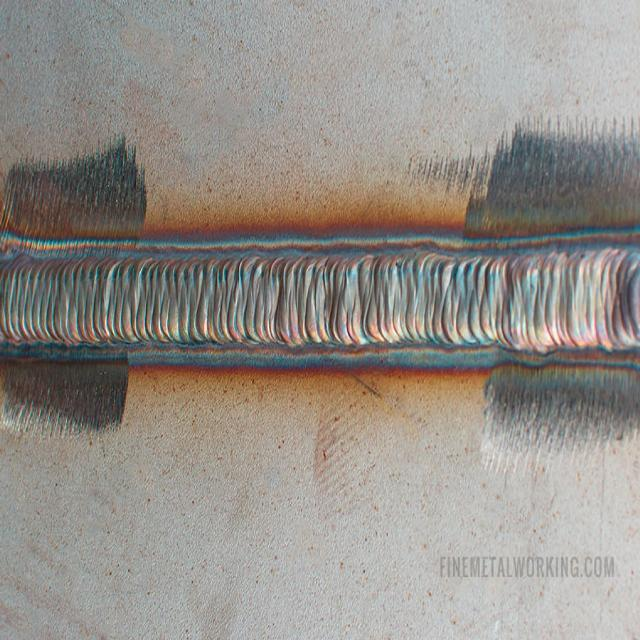Good Welding: (1, 231, 640, 368)
